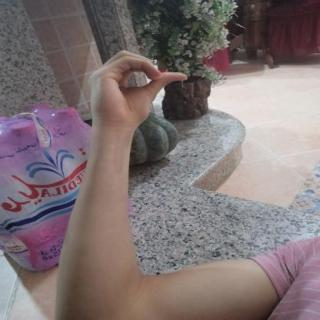WAW: (75, 44, 200, 140)
